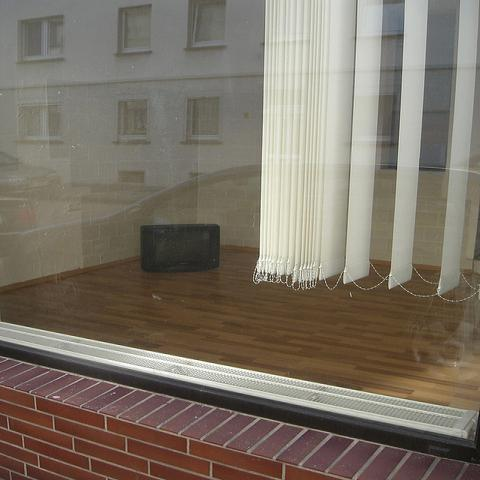car: (1, 151, 64, 197)
